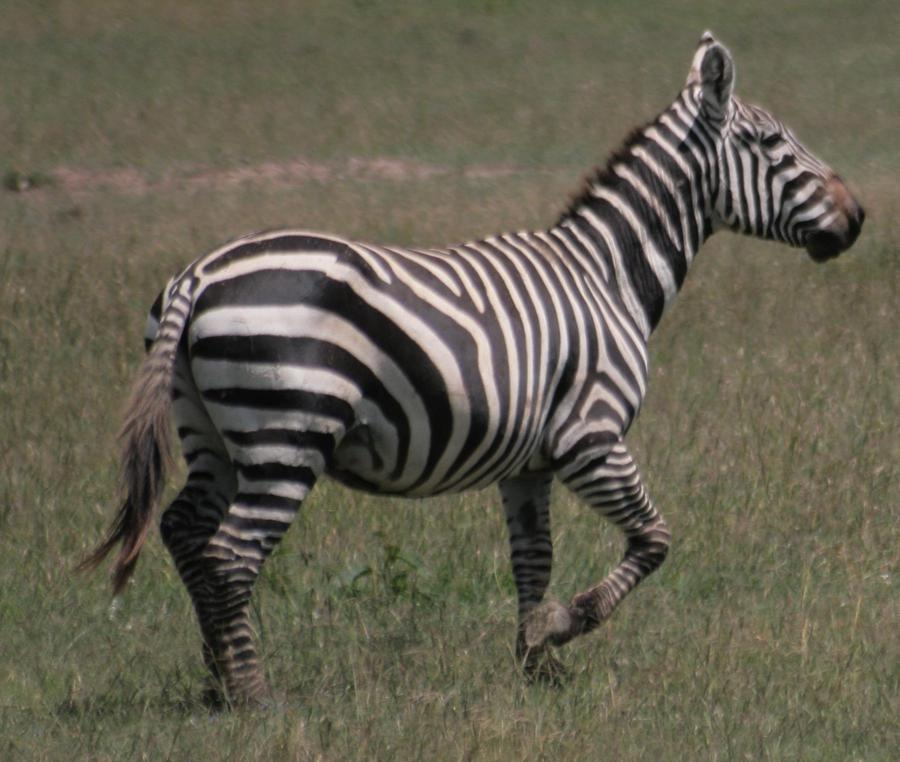zebra_plains: (184, 196, 674, 509)
